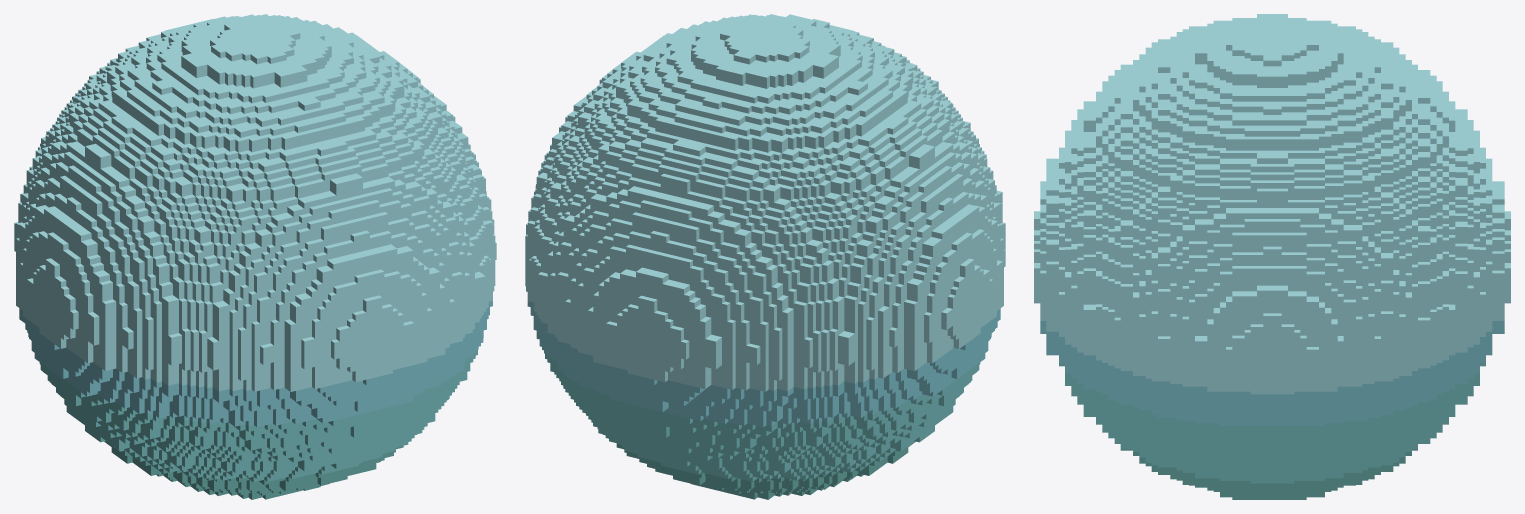
Rendered from uranus.glb.
The picture shows the model from 3 angles, left to right: view 1: azimuth 30°, elevation 25°; view 2: azimuth 150°, elevation 25°; view 3: azimuth 270°, elevation 25°; orthographic projection.
Visible parts, largest first — view 1: Voxel Uranus; view 2: Voxel Uranus; view 3: Voxel Uranus.
Boxes of the visible parts, bbox=[...] form: Voxel Uranus: bbox=[14, 14, 496, 499]; Voxel Uranus: bbox=[525, 14, 1005, 499]; Voxel Uranus: bbox=[1034, 14, 1510, 499].
Size of the model in its own units: 7.7 by 7.7 by 7.7.
1 material, 1 textured.
